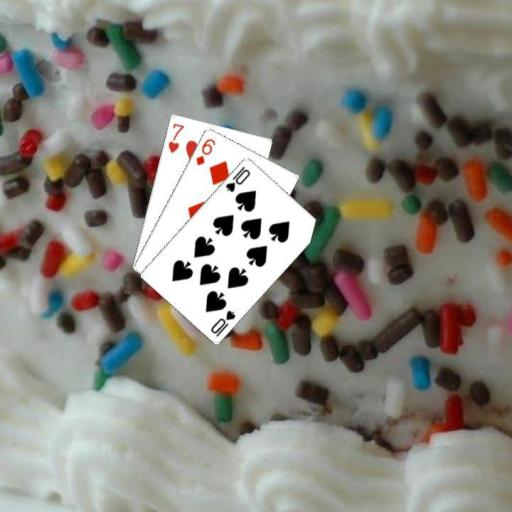10S: (207, 306, 237, 338), (223, 163, 252, 193)
6D: (193, 135, 217, 167)
7H: (165, 120, 186, 155)
